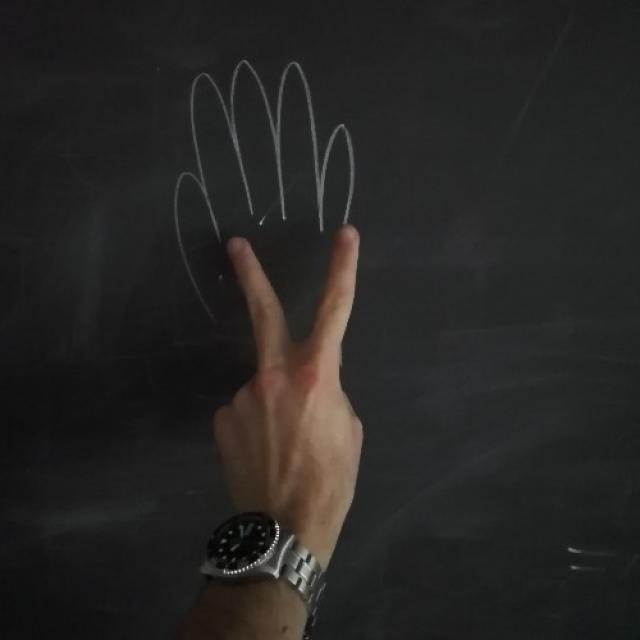scissors: (218, 222, 365, 508)
